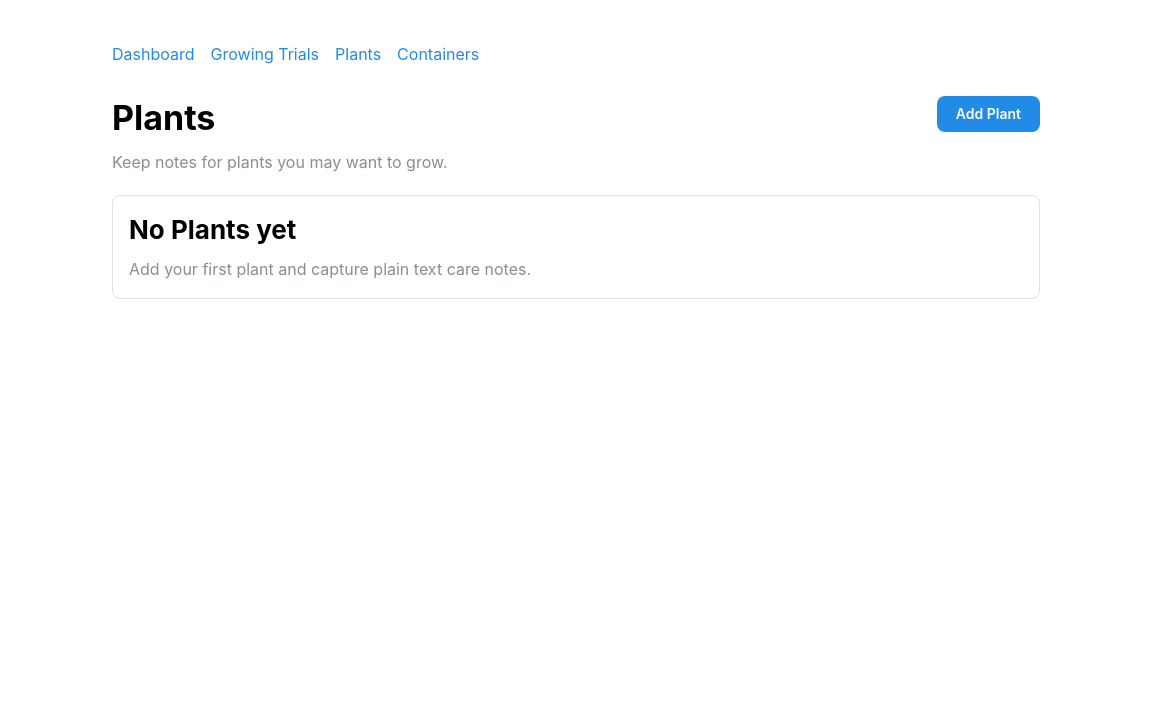
Test case: PlantsPage › validates blank Plant names while allowing blank care notes
Expected: the heading "No Plants yet" is shown, [129,214,296,245]
Click the button "Add Plant" at [988, 114], box [937,96,1040,132]
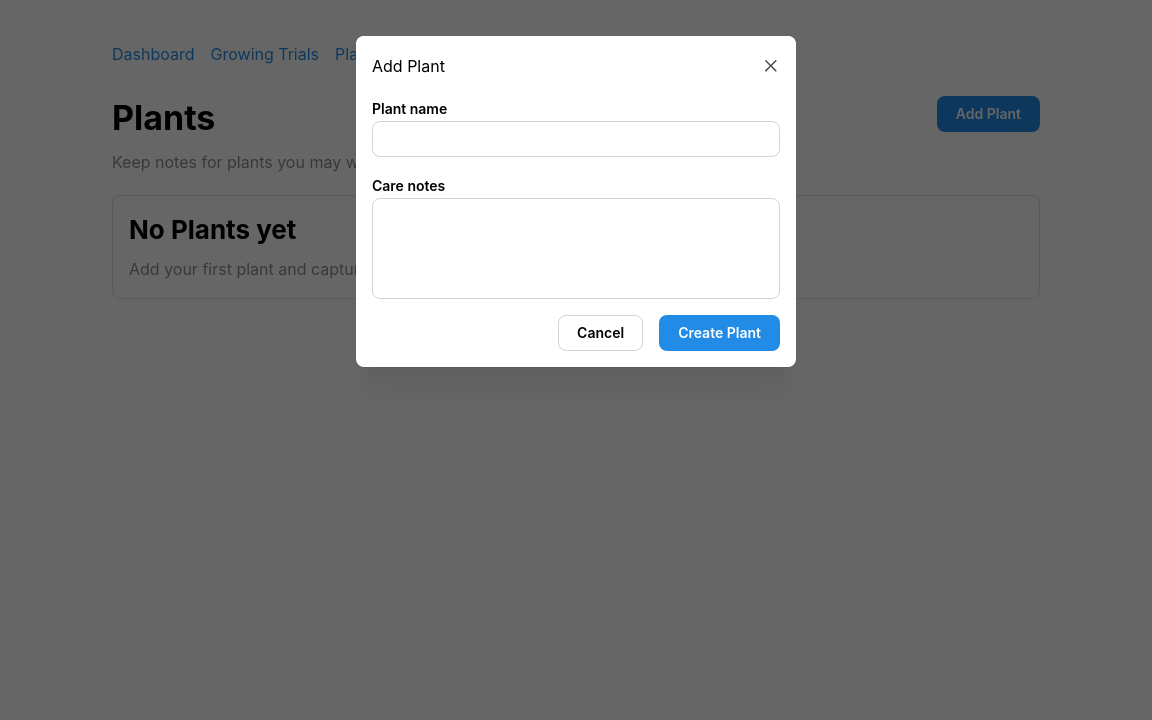
Type "Water often" into the text box labelled "Care notes" at [576, 248], box [372,198,780,299]
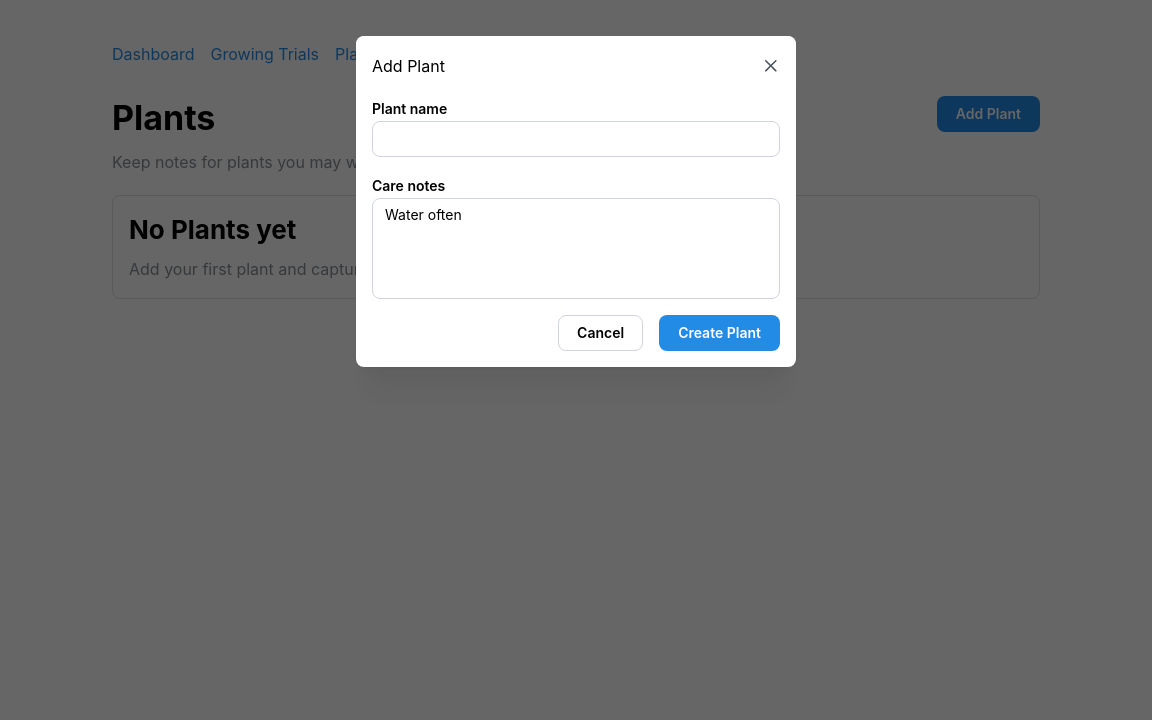
Click the button "Create Plant" at [720, 333], box [659,315,780,351]
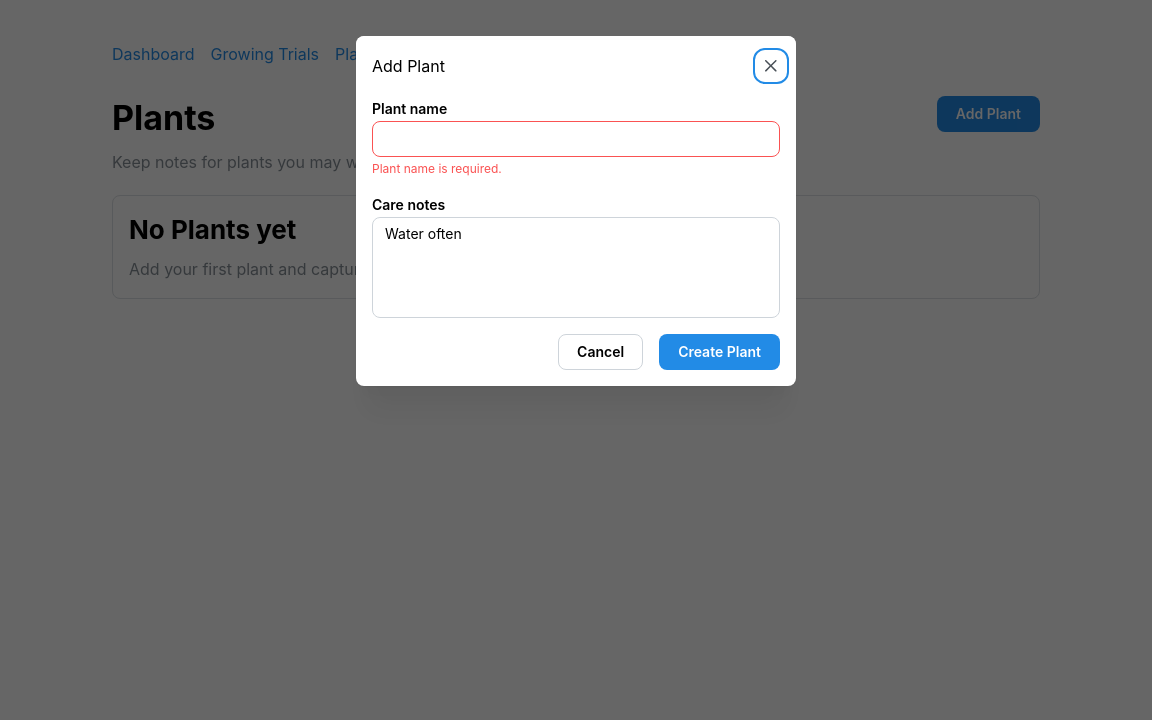
Result: the text "Plant name is required." is shown at [372,161,502,176]
